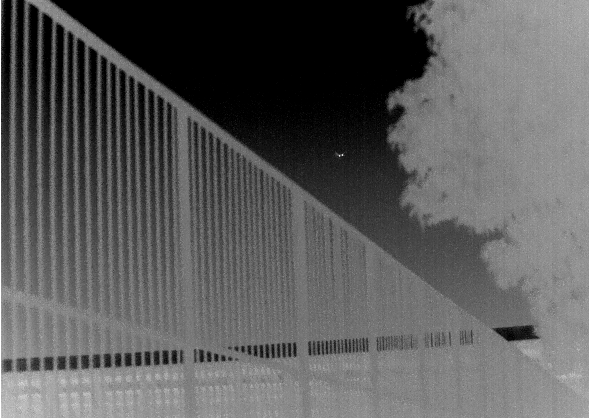dim target: (335, 150, 346, 158)
